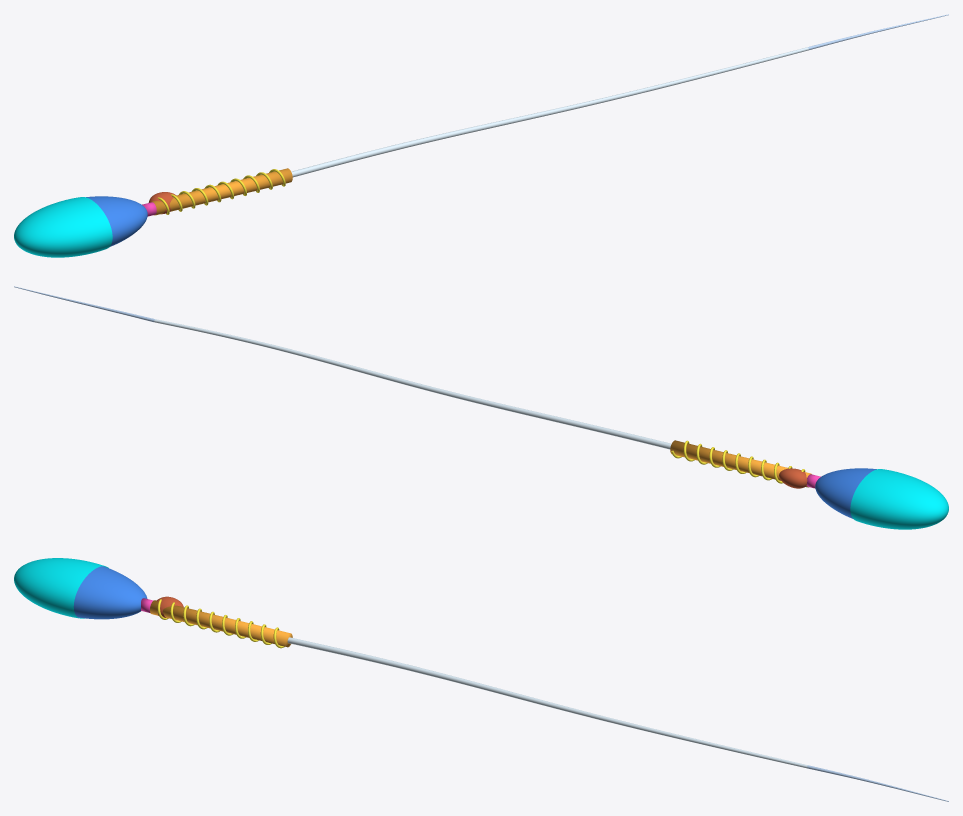
The model's file is 02_Gota_citoplasmatica_proximal.glb.
The picture shows the model from 3 angles, top to bottom: view 1: azimuth 30°, elevation 25°; view 2: azimuth 150°, elevation 25°; view 3: azimuth 330°, elevation 25°; orthographic projection.
Parts seen in each view (by area): view 1: Cubierta_acrosomal_didactica.001, Cola_pieza_principal.001, Pieza_intermedia.001, Cabeza_nucleo.001, Helice_mitocondrial_didactica.001; view 2: Cubierta_acrosomal_didactica.001, Cola_pieza_principal.001, Cabeza_nucleo.001, Pieza_intermedia.001, Helice_mitocondrial_didactica.001; view 3: Cubierta_acrosomal_didactica.001, Cola_pieza_principal.001, Cabeza_nucleo.001, Pieza_intermedia.001, Helice_mitocondrial_didactica.001.
Part boxes in pixels (x1=…): Cubierta_acrosomal_didactica.001: x1=14, y1=197, x2=112, y2=257; Cola_pieza_principal.001: x1=291, y1=47, x2=808, y2=177; Pieza_intermedia.001: x1=151, y1=168, x2=292, y2=215; Cabeza_nucleo.001: x1=86, y1=196, x2=147, y2=246; Helice_mitocondrial_didactica.001: x1=157, y1=169, x2=285, y2=214; Cubierta_acrosomal_didactica.001: x1=850, y1=469, x2=948, y2=529; Cola_pieza_principal.001: x1=154, y1=319, x2=671, y2=449; Cabeza_nucleo.001: x1=815, y1=468, x2=876, y2=518; Pieza_intermedia.001: x1=670, y1=440, x2=811, y2=487; Helice_mitocondrial_didactica.001: x1=671, y1=440, x2=805, y2=483; Cubierta_acrosomal_didactica.001: x1=14, y1=558, x2=108, y2=618; Cola_pieza_principal.001: x1=287, y1=637, x2=807, y2=768; Cabeza_nucleo.001: x1=73, y1=566, x2=147, y2=619; Pieza_intermedia.001: x1=150, y1=600, x2=292, y2=647; Helice_mitocondrial_didactica.001: x1=157, y1=599, x2=284, y2=648.
Bounding box in the file's own units: 62.85 × 2.93 × 4.65.
